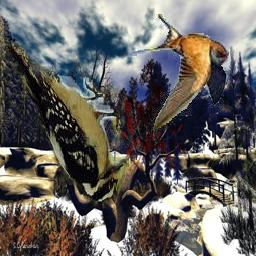Swallow: (129, 15, 229, 132)
Woodpecker: (7, 41, 130, 212)
